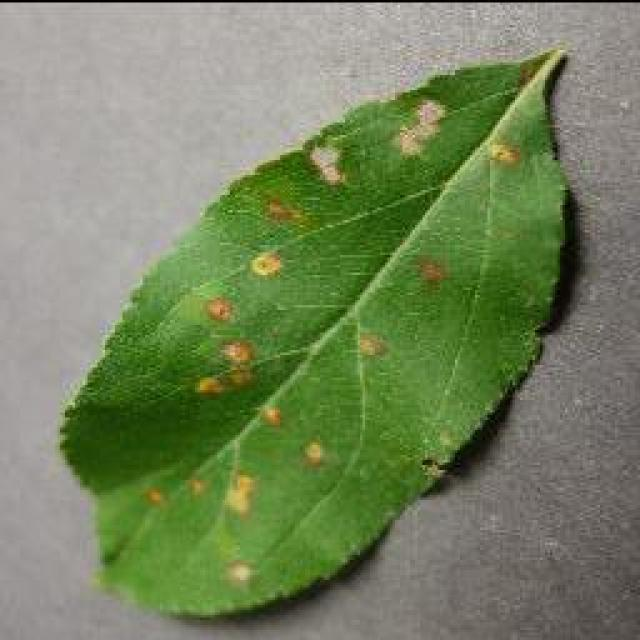apple cedar apple rust: (55, 45, 580, 620)
